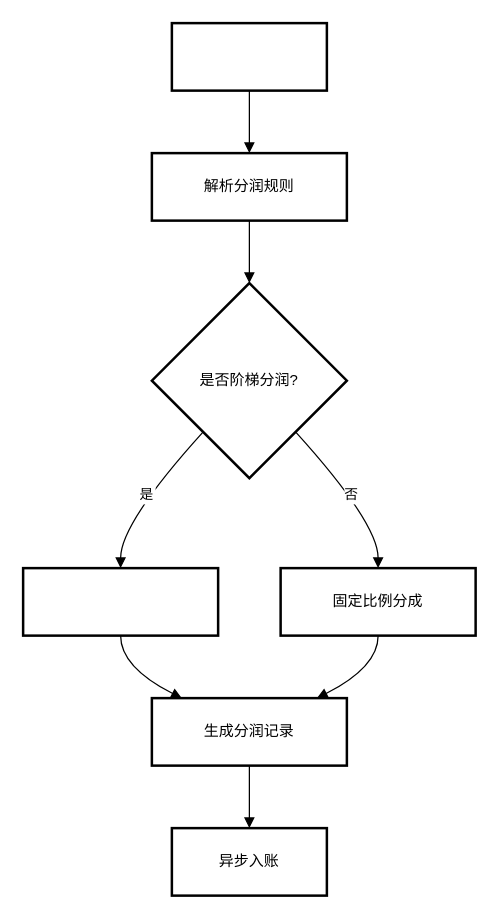
Image size: 498x918. Some labels were removed from this diagram. The shapes that lost their labels are listed below. From the top down, each one's centre as x and y in pixels, then its label:
[249,56]: 交易完成
[120,601]: 计算各级分成
